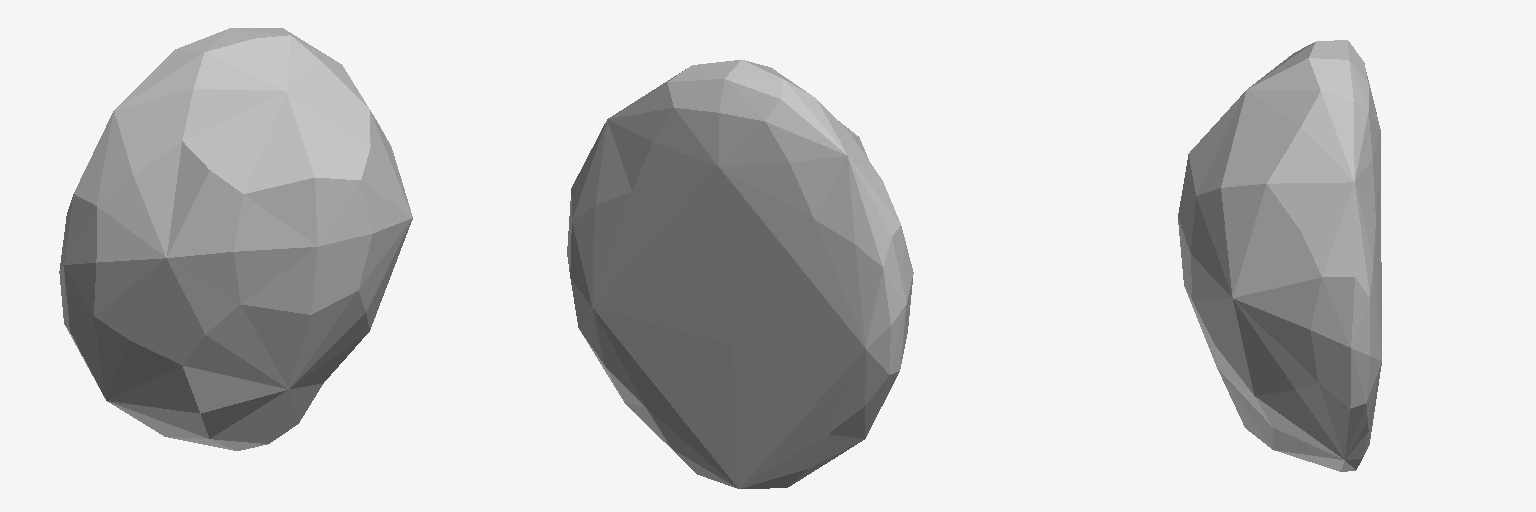
File: stone_05.obj
3 views of the same model, side by side, from view 1: azimuth 30°, elevation 25°; view 2: azimuth 150°, elevation 25°; view 3: azimuth 270°, elevation 25° (orthographic).
Visible parts, largest first — view 1: (null); view 2: (null); view 3: (null).
Part boxes in pixels (x1,y1,x2,y2): (null): (59,28,412,450); (null): (567,60,913,488); (null): (1178,40,1381,471).
Bounding box in the file's own units: 2.81 × 3.32 × 1.51.